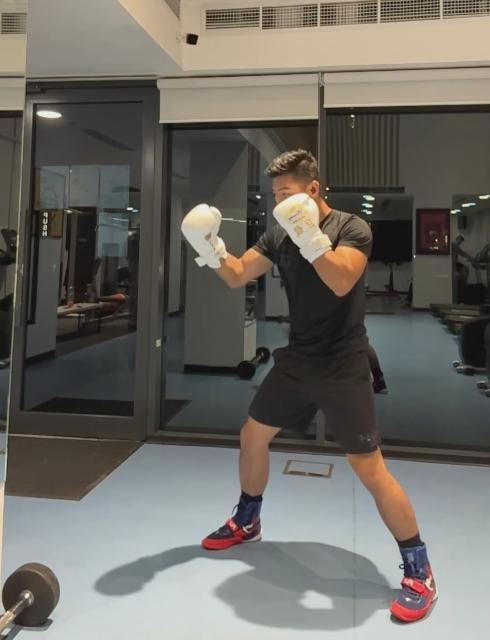punch: (181, 147, 439, 625)
